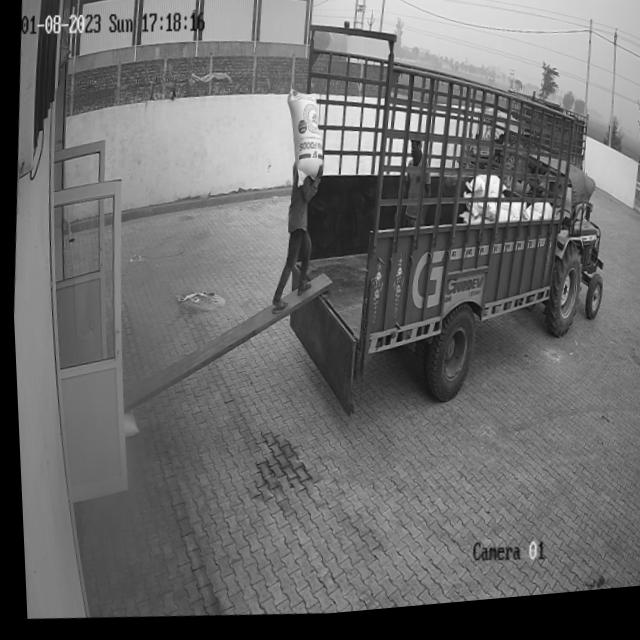sack: (279, 90, 326, 194)
